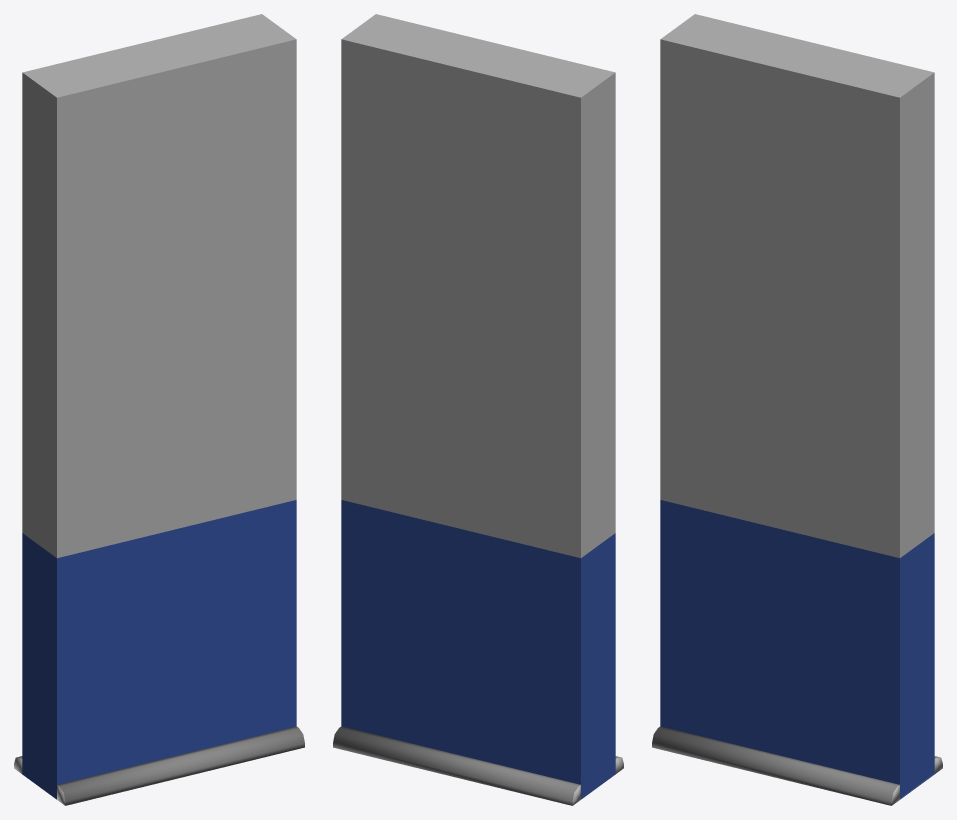
Rendered from Wall 2 Sides.fbx.
The picture shows the model from 3 angles, left to right: view 1: azimuth 30°, elevation 25°; view 2: azimuth 150°, elevation 25°; view 3: azimuth 330°, elevation 25°; orthographic projection.
Parts seen in each view (by area): view 1: Wall 2 Sides; view 2: Wall 2 Sides; view 3: Wall 2 Sides.
Boxes of the visible parts, <box> form: Wall 2 Sides: <box>14,14,304,805</box>; Wall 2 Sides: <box>333,14,623,805</box>; Wall 2 Sides: <box>652,14,942,805</box>.
Size of the model in its own units: 100 by 280 by 37.15.
1 material, 1 textured.
